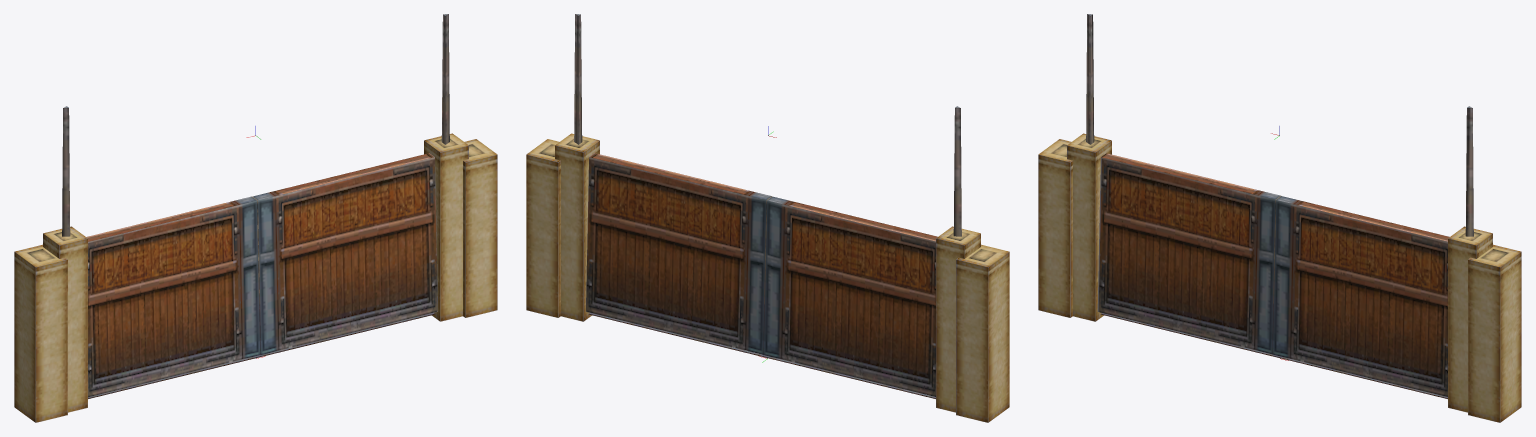
The model's file is egyptian-gate.glb.
The picture shows the model from 3 angles, left to right: view 1: azimuth 30°, elevation 25°; view 2: azimuth 150°, elevation 25°; view 3: azimuth 330°, elevation 25°; orthographic projection.
Parts seen in each view (by area): view 1: building e gate_closedModel; view 2: building e gate_closedModel; view 3: building e gate_closedModel.
Boxes of the visible parts, x1=… form: building e gate_closedModel: x1=14, y1=14, x2=497, y2=422; building e gate_closedModel: x1=526, y1=14, x2=1009, y2=422; building e gate_closedModel: x1=1038, y1=14, x2=1521, y2=422.
Bounding box in the file's own units: 12.12 × 7.47 × 0.9727.
Materials: 2 (1 with a texture image).
